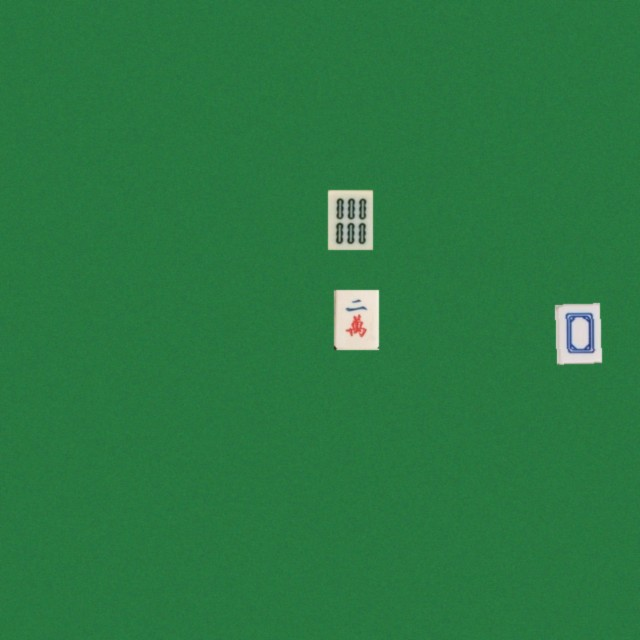tile: (333, 289, 378, 349), (327, 189, 372, 249), (555, 303, 600, 363)
